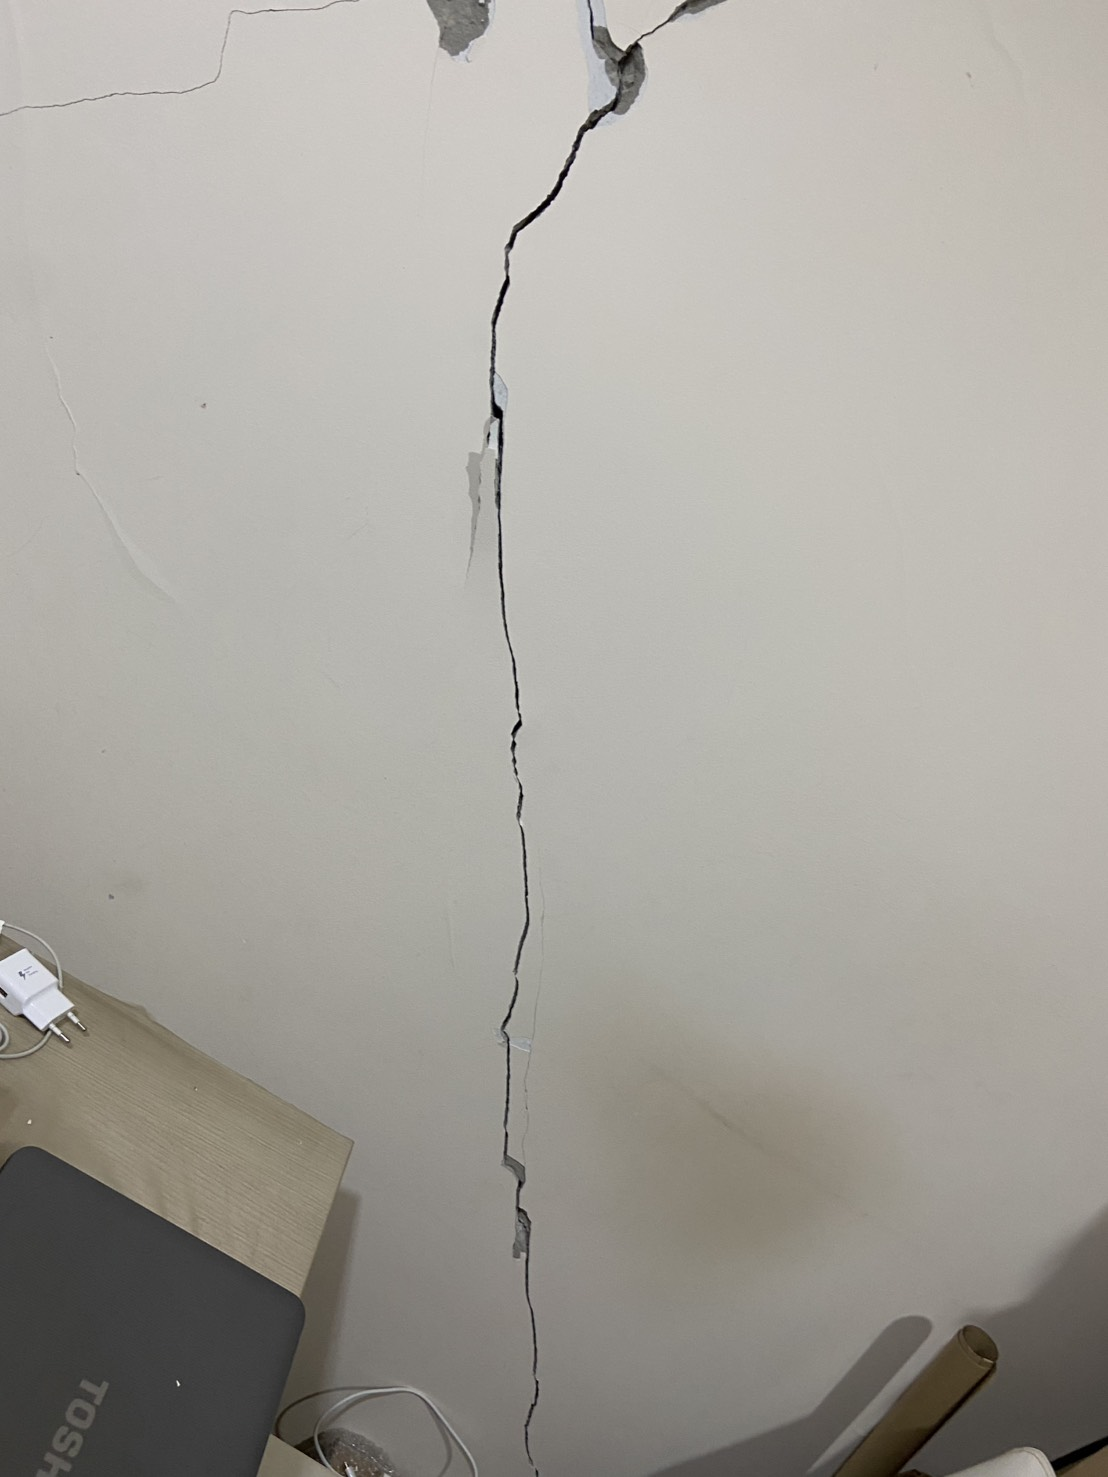Medium: (339, 3, 782, 1082)
